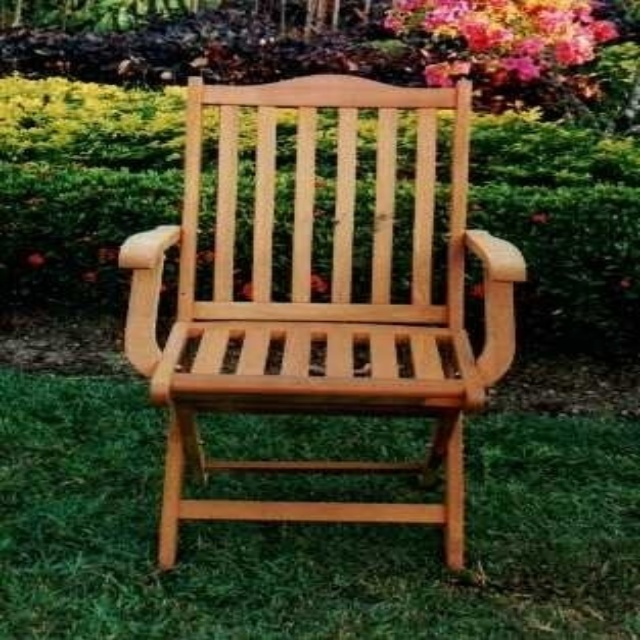obstacle: (119, 75, 523, 568)
